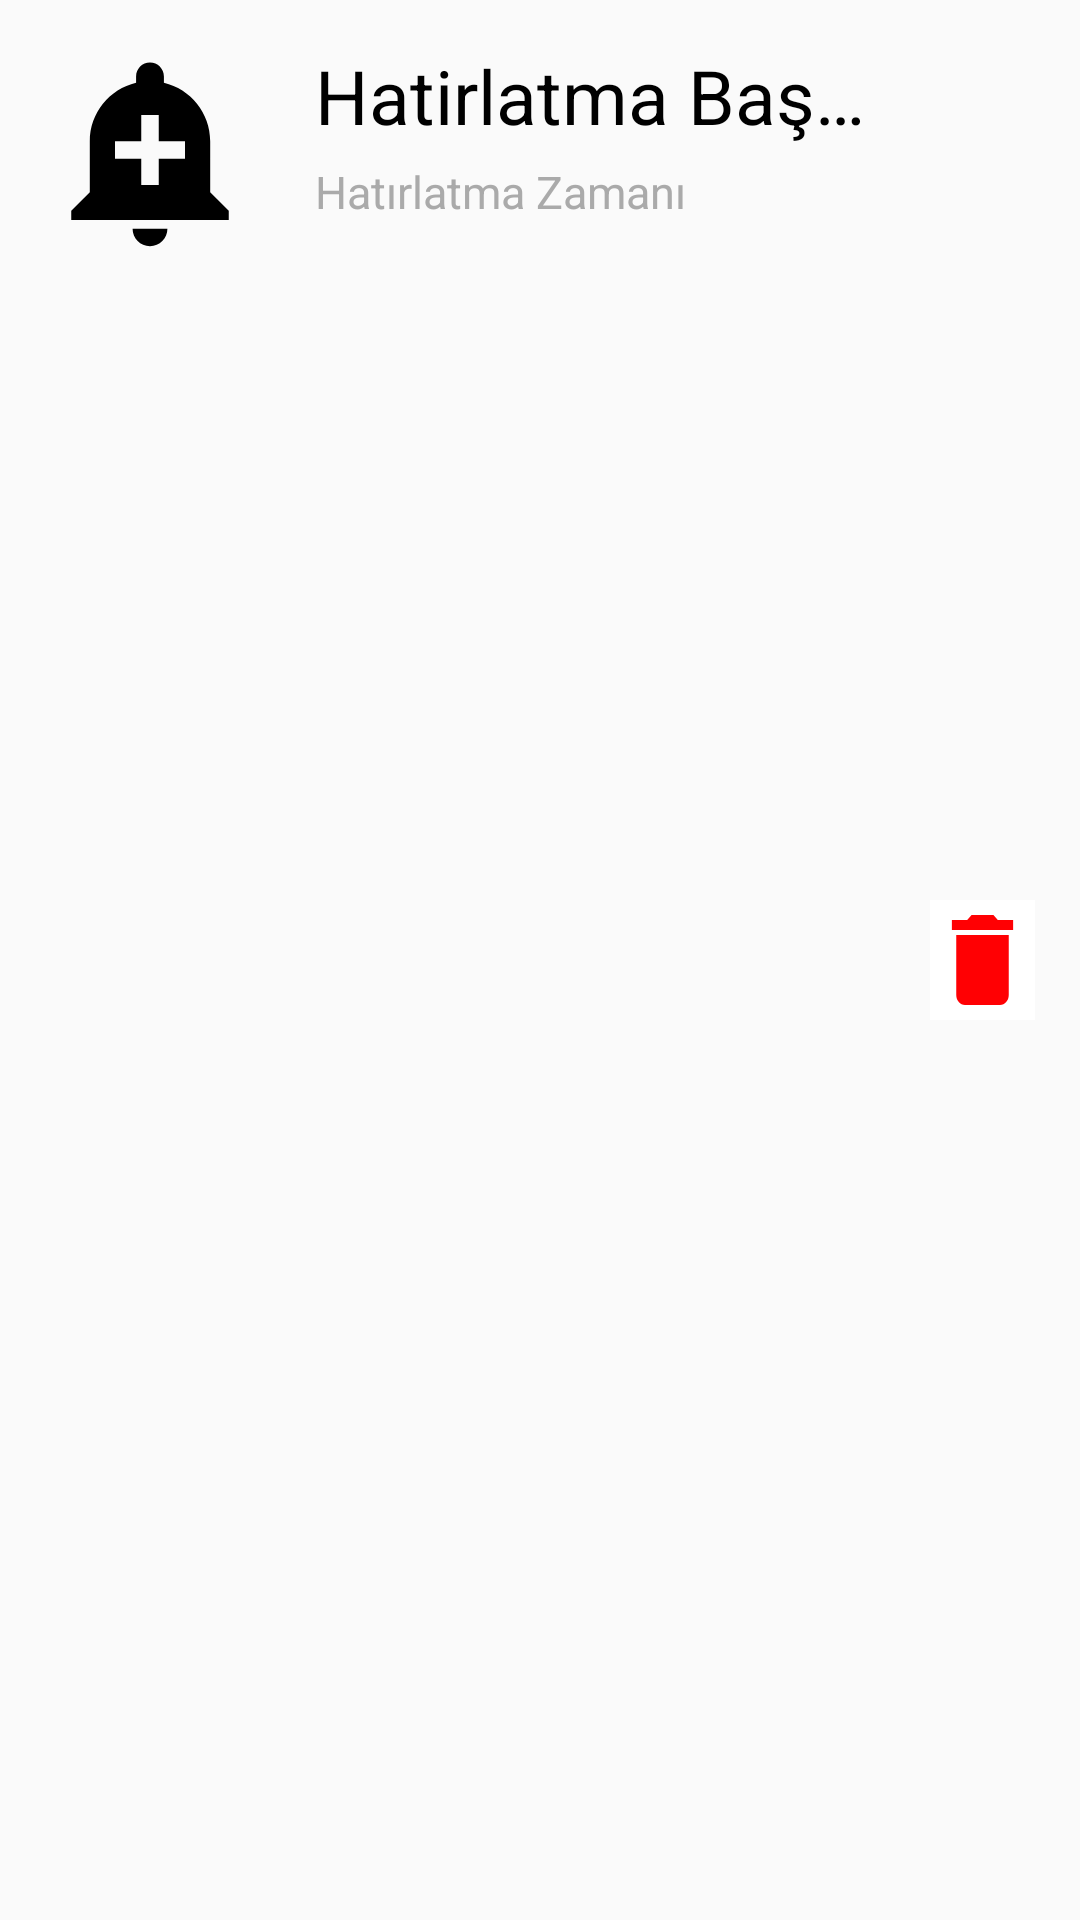

Screen size 1080px x 1920px. Icon name, then its box in pixels as (x1, y1, x2, y2):
add alert: (71, 62, 229, 247)
delete: (951, 915, 1014, 1005)
